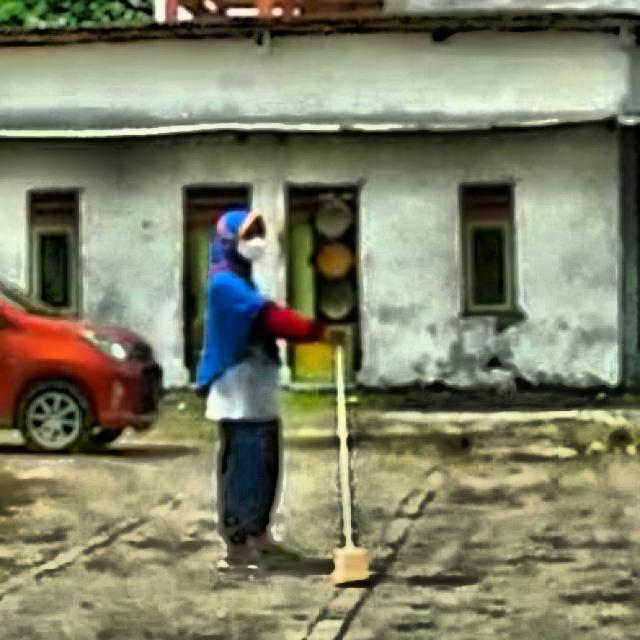yellow: (310, 192, 361, 326)
